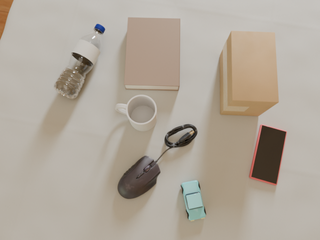book: (124, 17, 180, 90)
bottle: (53, 24, 105, 99)
box: (220, 31, 279, 116)
cup: (115, 95, 157, 131)
mouse: (118, 156, 160, 199)
phone: (249, 125, 287, 185)
toy_car: (181, 180, 206, 221)
